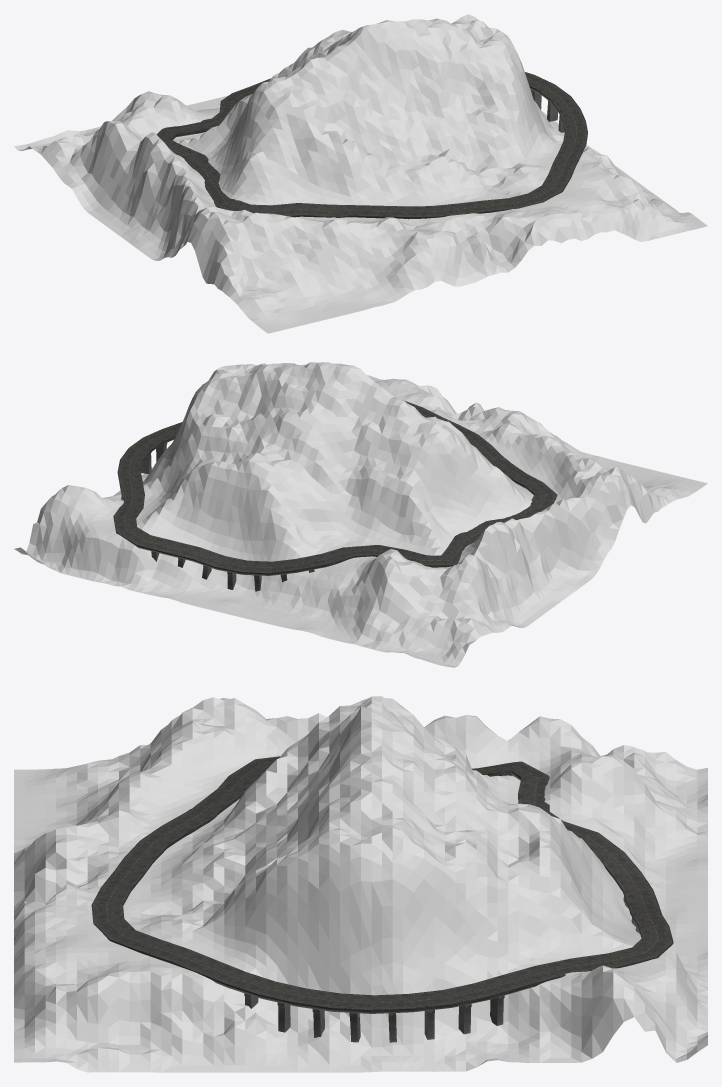
The model's file is cartmap.fbx.
3 views of the same model, one above another, from view 1: azimuth 30°, elevation 25°; view 2: azimuth 150°, elevation 25°; view 3: azimuth 270°, elevation 25° (orthographic). The views are drawn at different scales.
Visible parts, largest first — view 1: map3dmesh, mesh; view 2: map3dmesh, mesh; view 3: map3dmesh, mesh.
Part boxes in pixels (x1=…): map3dmesh: x1=14, y1=14, x2=707, y2=333; mesh: x1=156, y1=72, x2=587, y2=219; map3dmesh: x1=14, y1=362, x2=707, y2=667; mesh: x1=113, y1=401, x2=557, y2=591; map3dmesh: x1=14, y1=696, x2=707, y2=1072; mesh: x1=91, y1=756, x2=673, y2=1042.
Size of the model in its own units: 3000 by 1089 by 3000.
